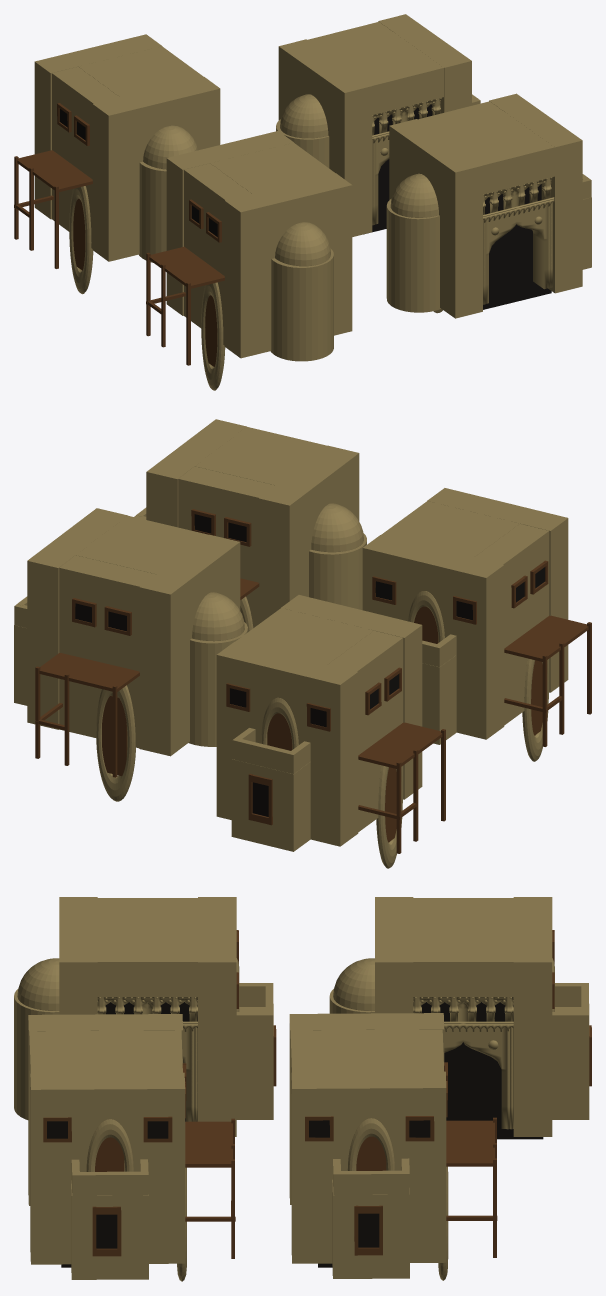
The model's file is houses_east.obj.
3 views of the same model, one above another, from view 1: azimuth 30°, elevation 25°; view 2: azimuth 150°, elevation 25°; view 3: azimuth 270°, elevation 25° (orthographic). The views are drawn at different scales.
Visible parts, largest first — view 1: Torus.003, Torus.001, Torus.000, Torus.002, Cube.006_Cube.023, Cube.000, Cube_Cube.010_Cube_Cube.016, Cube_Cube.009_Cube_Cube.012; view 2: Torus.002, Torus.000, Torus.001, Torus.003, Cube.000, Cube.006_Cube.023, Cube.001, Cube_Cube.007_Cube_Cube.008, Cube.002, Cube_Cube.012_Cube_Cube.018, Cube_Cube.008_Cube_Cube.011; view 3: Torus.002, Torus.003, Torus.000, Torus.001, Cube.001, Cube.002, Cube_Cube.001_Cube_Cube.000, Cube_Cube.011_Cube_Cube.017, Cube_Cube.006_Cube_Cube.013, Cube_Cube.019.
Boxes of the visible parts, x1,y1,x2,y2 form: Torus.003: [386, 93, 591, 318]; Torus.001: [166, 131, 352, 390]; Torus.000: [34, 34, 220, 294]; Torus.002: [276, 14, 480, 236]; Cube.006_Cube.023: [146, 199, 224, 366]; Cube.000: [14, 103, 92, 270]; Cube_Cube.010_Cube_Cube.016: [483, 184, 551, 309]; Cube_Cube.009_Cube_Cube.012: [363, 104, 432, 234]; Torus.002: [14, 508, 247, 801]; Torus.000: [216, 595, 422, 868]; Torus.001: [362, 488, 568, 761]; Torus.003: [134, 419, 366, 631]; Cube.000: [226, 667, 445, 853]; Cube.006_Cube.023: [372, 560, 591, 746]; Cube.001: [35, 598, 139, 777]; Cube_Cube.007_Cube_Cube.008: [229, 688, 326, 816]; Cube.002: [191, 509, 259, 599]; Cube_Cube.012_Cube_Cube.018: [194, 514, 246, 542]; Cube_Cube.008_Cube_Cube.011: [75, 603, 126, 631]; Torus.002: [289, 1013, 448, 1280]; Torus.003: [28, 1014, 186, 1281]; Torus.000: [329, 897, 589, 1136]; Torus.001: [14, 897, 273, 1136]; Cube.001: [305, 1062, 497, 1257]; Cube.002: [43, 1063, 235, 1258]; Cube_Cube.001_Cube_Cube.000: [421, 1002, 543, 1139]; Cube_Cube.011_Cube_Cube.017: [47, 1121, 168, 1248]; Cube_Cube.006_Cube_Cube.013: [309, 1120, 430, 1247]; Cube_Cube.019: [105, 1002, 197, 1121].
Size of the model in its own units: 14.14 by 6.82 by 14.98.
